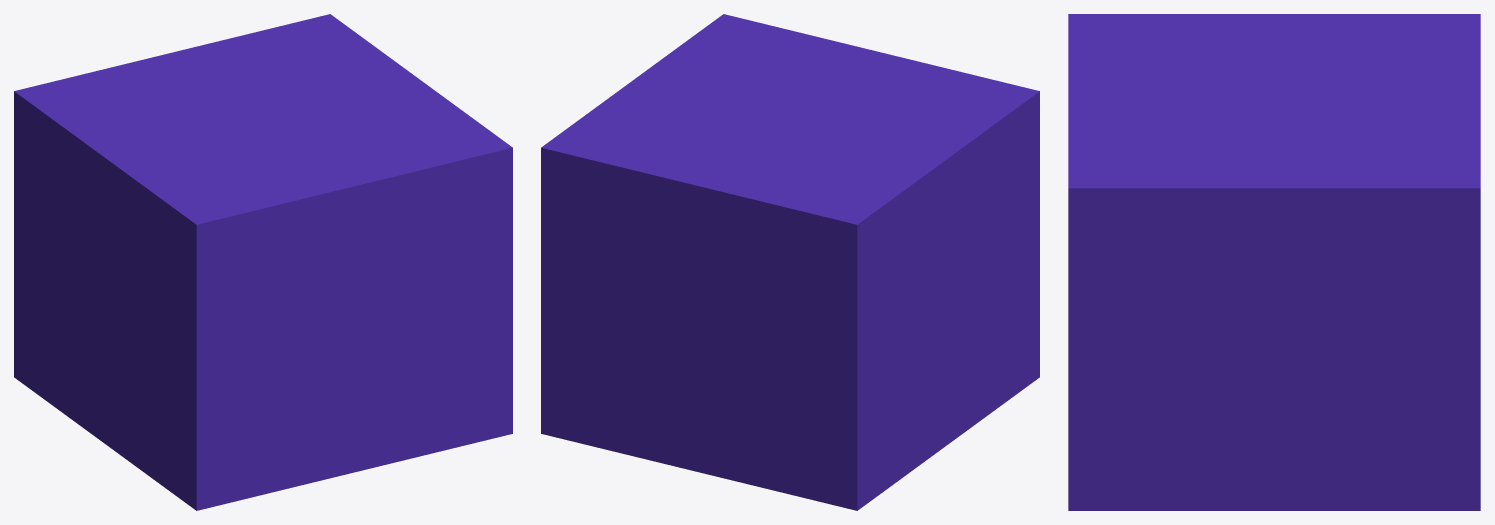
3 views of the same model, side by side, from view 1: azimuth 30°, elevation 25°; view 2: azimuth 150°, elevation 25°; view 3: azimuth 270°, elevation 25° (orthographic). The views are drawn at different scales.
Parts seen in each view (by area): view 1: X3_sh_19, X3_sh_4, X3_sh_18, X3_sh_2, X3_sh_6, X3_sh_15, X3_sh_5, X3_sh_7, X3_sh_20, X3_sh_1, X3_sh_14, X3_sh_10 (+2 smaller); view 2: X3_sh_10, X3_sh_5, X3_sh_16, X3_sh_6, X3_sh_2, X3_sh_18, X3_sh_8, X3_sh_11, X3_sh_7, X3_sh_20, X3_sh_4, X3_sh_12 (+2 smaller); view 3: X3_sh_1, X3_sh_13, X3_sh_12, X3_sh_7, X3_sh_5, X3_sh_16, X3_sh_18, X3_sh_4, X3_sh_14, X3_sh_6, X3_sh_9, X3_sh_19.
Part boxes in pixels (x1,y1,x2,y2): X3_sh_19: (257,181,512,449); X3_sh_4: (199,134,512,316); X3_sh_18: (117,117,322,385); X3_sh_2: (68,241,241,487); X3_sh_6: (23,98,249,392); X3_sh_15: (171,383,445,510); X3_sh_5: (14,33,328,114); X3_sh_7: (288,47,503,141); X3_sh_20: (21,187,95,436); X3_sh_1: (453,276,512,448); X3_sh_14: (153,87,339,136); X3_sh_10: (14,93,37,272); X3_sh_10: (658,222,881,405); X3_sh_5: (620,126,866,297); X3_sh_16: (541,122,679,328); X3_sh_6: (835,149,1039,294); X3_sh_2: (911,236,1039,450); X3_sh_18: (796,89,1039,222); X3_sh_8: (705,396,883,510); X3_sh_11: (541,328,714,475); X3_sh_7: (599,20,781,128); X3_sh_20: (864,285,938,490); X3_sh_4: (715,14,1036,90); X3_sh_12: (541,299,626,427); X3_sh_1: (1068,293,1315,510); X3_sh_13: (1153,177,1401,378); X3_sh_12: (1306,330,1480,510); X3_sh_7: (1081,124,1391,259); X3_sh_5: (1334,14,1480,165); X3_sh_16: (1390,144,1480,358); X3_sh_18: (1068,14,1337,115); X3_sh_4: (1068,15,1200,225); X3_sh_14: (1196,58,1348,129); X3_sh_6: (1249,14,1457,58); X3_sh_9: (1075,220,1196,307); X3_sh_19: (1068,224,1095,332).
Bounding box in the file's own units: 200 × 173 × 200.
